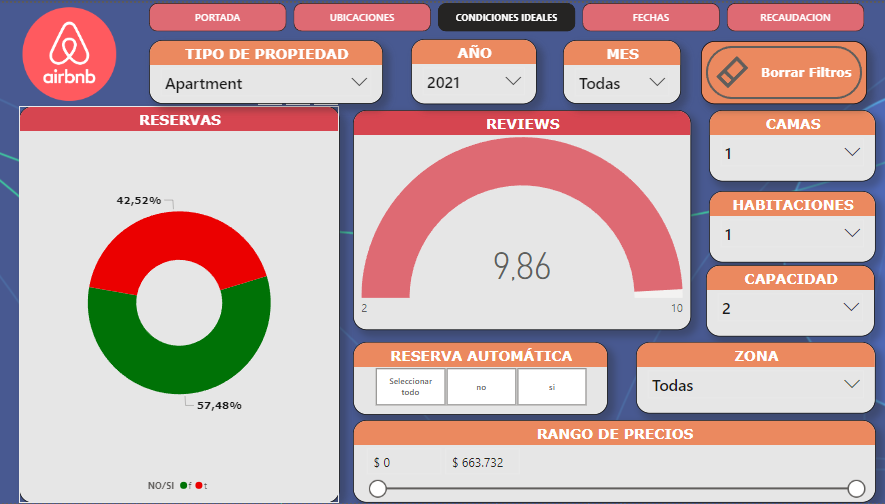

What the dashboard file says about the page in this screenshot:
{"tool":"powerbi","page":{"name":"CONDICIONES IDEALES","canvas":[1280,720],"ordinal":2},"visuals":[{"type":"slicer","title":"CAMAS","fields":{"Values":["listings.camas"]},"box":[1024.6,153.8,240.5,103.1],"z":0},{"type":"slicer","title":"HABITACIONES","fields":{"Values":["listings.habitaciones"]},"box":[1024.6,270.3,240.5,103.1],"z":1000},{"type":"slicer","title":"CAPACIDAD","fields":{"Values":["listings.para_cuantas_personas"]},"box":[1021.6,377.9,243.5,103.1],"z":2000},{"type":"slicer","title":"RESERVA AUTOMÁTICA","fields":{"Values":["listings.reserva_instantanea"]},"box":[512.3,488.4,367.4,104.6],"z":3000},{"type":"slicer","title":"ZONA","fields":{"Values":["listings.barrio"]},"box":[920,488.4,345,103.1],"z":4000},{"type":"slicer","title":"RANGO DE PRECIOS","fields":{"Values":["listings.price"]},"box":[512.3,600.4,752.8,119.5],"z":5000},{"type":"gauge","title":"REVIEWS","fields":{"Y":["Avg(listings.review_ubicacion)"],"MaxValue":["Max(listings.review_general)"],"MinValue":["Min(listings.review_general)"]},"box":[512.3,153.8,486.9,316.6],"z":6000},{"type":"donutChart","title":"RESERVAS","fields":{"Y":["CountNonNull(calendar.Disponibilidad)"],"Category":["calendar.Disponibilidad"]},"box":[31.4,147.9,461.5,572],"z":7000},{"type":"image","box":[31.7,0,145.4,146.9],"z":8000},{"type":"slicer","title":"TIPO DE PROPIEDAD","fields":{"Values":["listings.tipo_propiedad"]},"box":[218.9,53.3,337,92.2],"z":9000},{"type":"slicer","title":"AÑO","fields":{"Values":["calendar.Fecha.Variación.Jerarquía de fechas.Año"]},"box":[596.2,51.8,181.4,93.6],"z":10000},{"type":"slicer","title":"MES","fields":{"Values":["calendar.Fecha.Variación.Jerarquía de fechas.Mes"]},"box":[815,53.3,169.9,92.2],"z":11000},{"type":"pageNavigator","box":[218.9,0,1033.9,41.8],"z":12000},{"type":"actionButton","box":[1013.8,54.7,239,90.7],"z":13000}]}

Visuals, with their boxes in screenshot pixels (x1, y1, x2, y2), scaled from the page's 1280x720 canvas onto the 885x504 screenshot:
"CAMAS" slicer: <box>708,108,875,180</box>
"HABITACIONES" slicer: <box>708,189,875,261</box>
"CAPACIDAD" slicer: <box>706,265,875,337</box>
"RESERVA AUTOMÁTICA" slicer: <box>354,342,608,415</box>
"ZONA" slicer: <box>636,342,875,414</box>
"RANGO DE PRECIOS" slicer: <box>354,420,875,503</box>
"REVIEWS" gauge: <box>354,108,691,329</box>
"RESERVAS" donutChart: <box>22,104,341,503</box>
image: <box>22,0,122,103</box>
"TIPO DE PROPIEDAD" slicer: <box>151,37,384,102</box>
"AÑO" slicer: <box>412,36,538,102</box>
"MES" slicer: <box>563,37,681,102</box>
pageNavigator: <box>151,0,866,29</box>
actionButton: <box>701,38,866,102</box>
